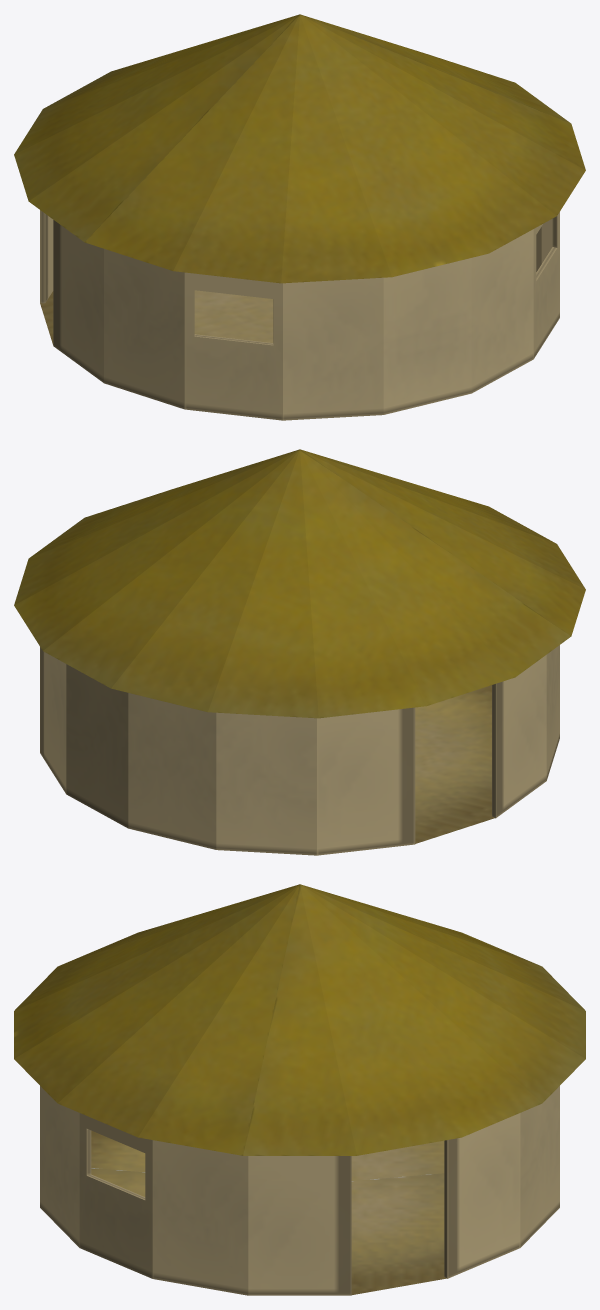
The model's file is House1.fbx.
3 renders of one model, top to bottom at view 1: azimuth 30°, elevation 25°; view 2: azimuth 150°, elevation 25°; view 3: azimuth 270°, elevation 25°, orthographic.
Parts seen in each view (by area): view 1: cone, tube, circle; view 2: cone, tube, circle; view 3: cone, tube, circle.
Boxes of the visible parts, x1,y1,x2,y2 form: cone: [14, 14, 585, 283]; tube: [40, 210, 559, 420]; circle: [40, 290, 273, 344]; cone: [14, 449, 585, 718]; tube: [40, 645, 559, 855]; circle: [415, 685, 495, 843]; cone: [14, 884, 585, 1155]; tube: [40, 1086, 559, 1295]; circle: [91, 1130, 446, 1294].
Size of the model in its own units: 688 by 400 by 688.
Materials: 3 (3 with a texture image).
